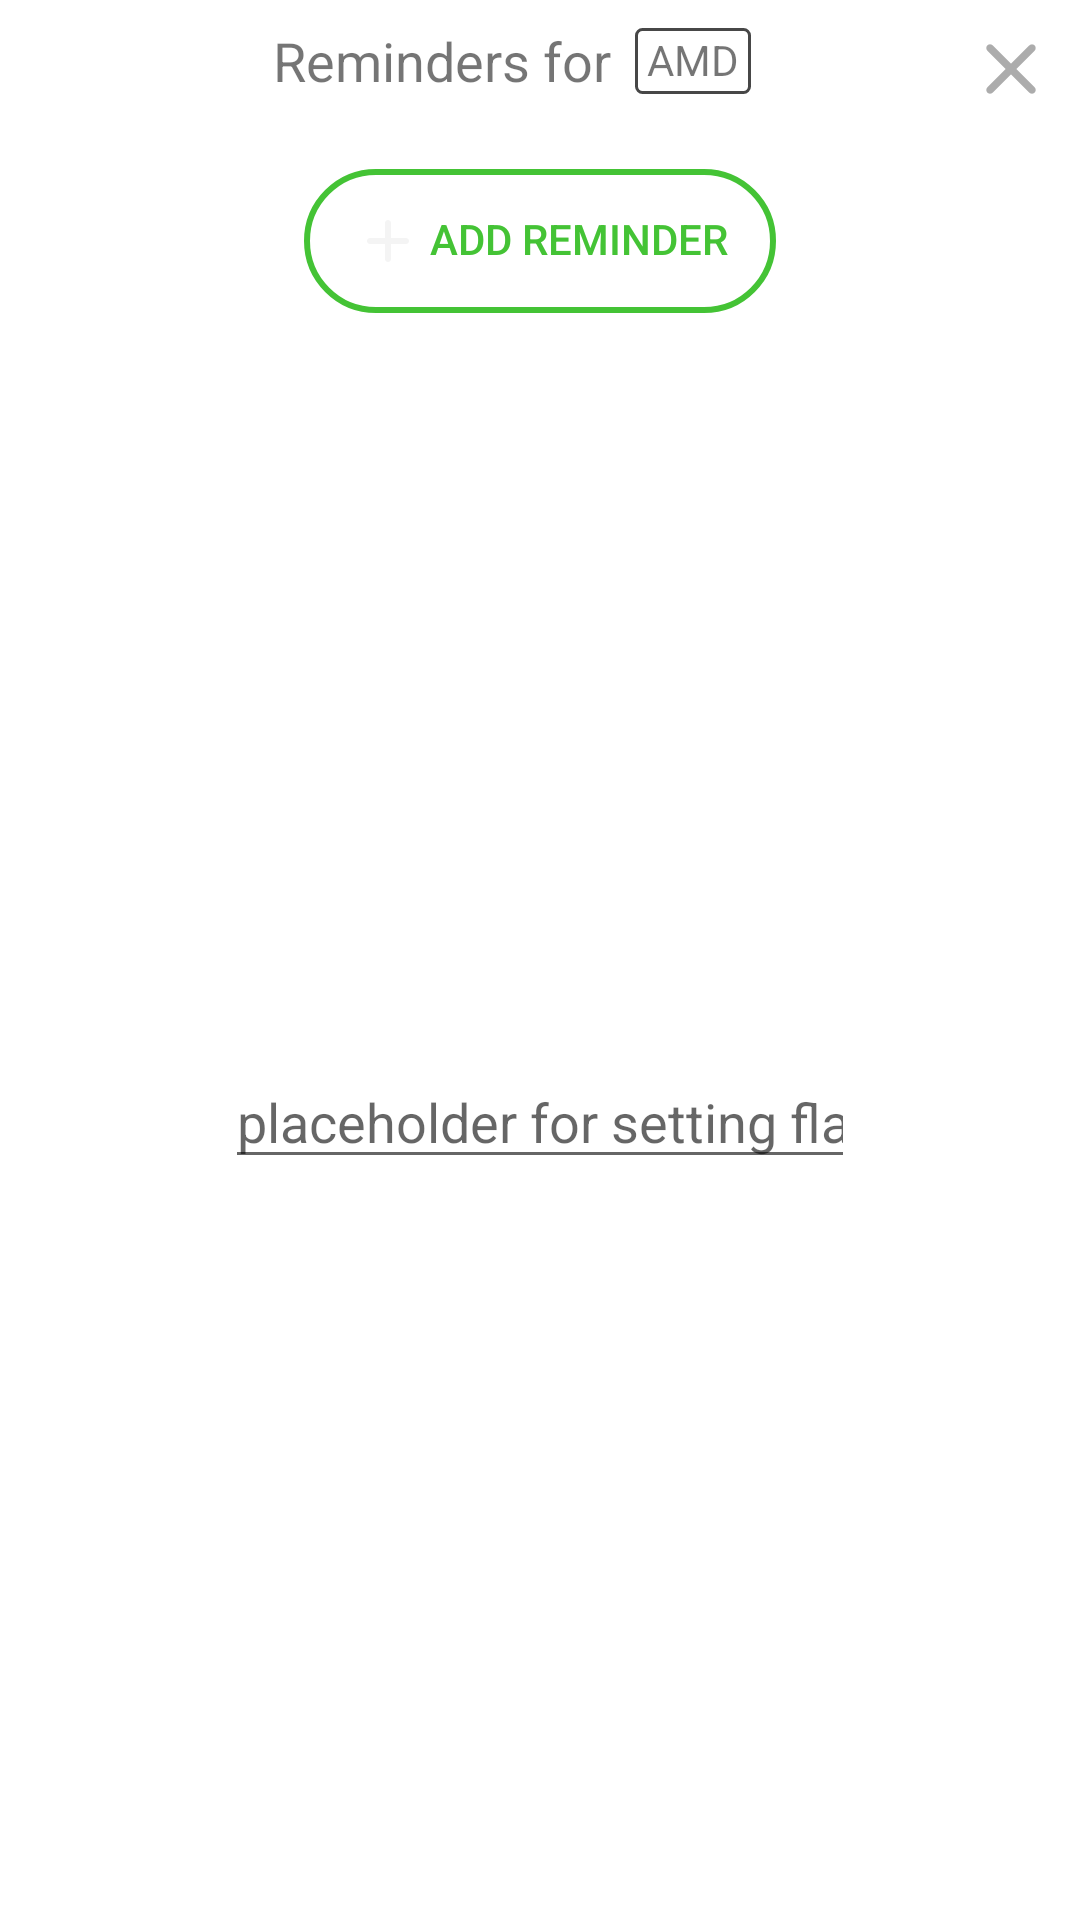

Where icons sit on this 1080 × 1920 app screen, as bbox=(x1, y1, x2, y2):
Close Dialog: bbox=(986, 44, 1036, 94)
